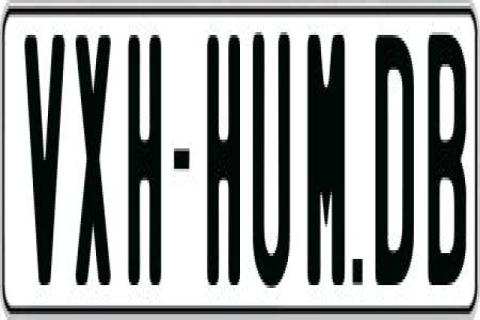B: (425, 35, 460, 294)
D: (373, 35, 411, 294)
H: (204, 26, 244, 291), (126, 26, 165, 276)
M: (307, 29, 351, 294)
U: (252, 29, 293, 297)
V: (24, 26, 70, 291)
X: (74, 29, 115, 291)
